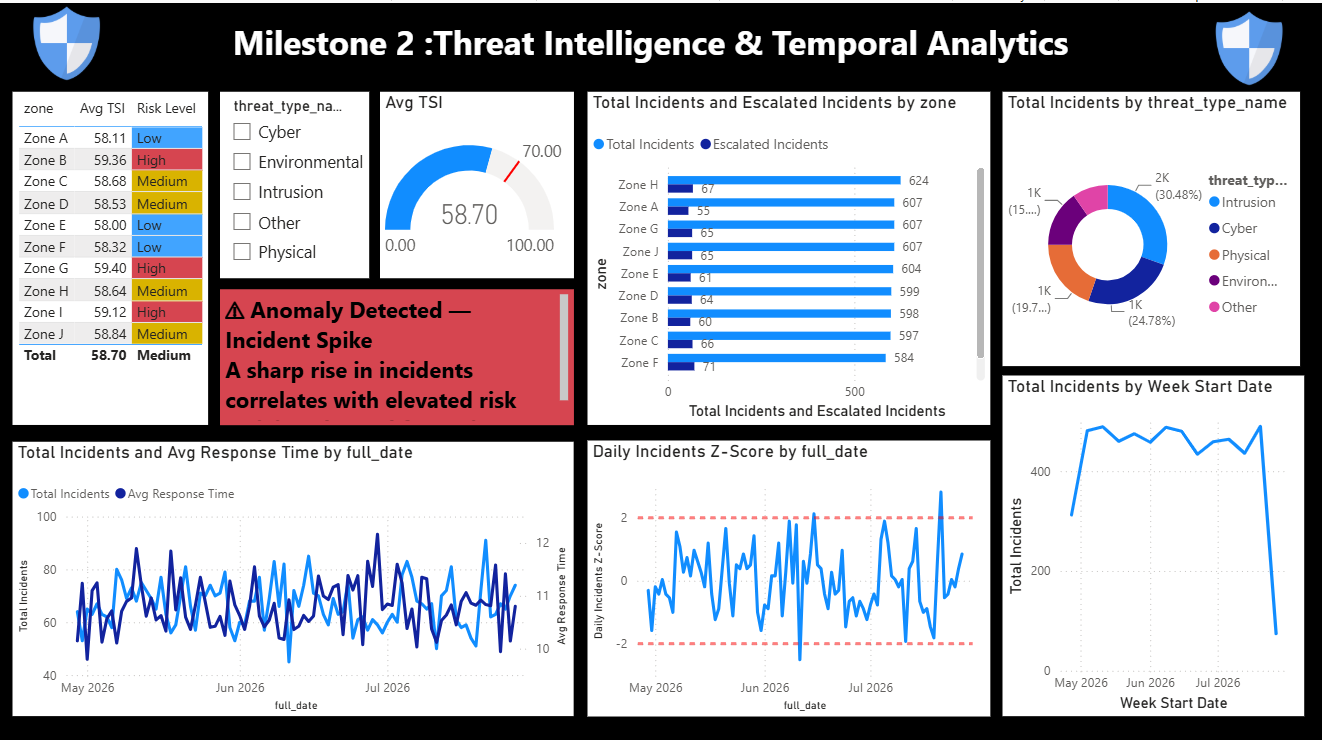

What the dashboard file says about the page in this screenshot:
{"tool":"powerbi","page":{"name":"Page 2","canvas":[1280,720],"ordinal":1},"visuals":[{"type":"gauge","fields":{"Y":["Fact_Incident.Avg TSI"]},"box":[366.2,86.2,187.5,180],"z":0},{"type":"textbox","box":[22.9,10.9,1210.1,66.4],"z":1000},{"type":"lineChart","fields":{"Category":["Dim_Time.full_date"],"Y":["Fact_Incident.Total Incidents"],"Y2":["Fact_Incident.Avg Response Time"]},"box":[12.5,423.8,541.2,265],"z":2000},{"type":"donutChart","fields":{"Category":["Dim_ThreatType.threat_type_name"],"Y":["Fact_Incident.Total Incidents"]},"box":[967.5,86.2,287.5,265],"z":3000},{"type":"textbox","box":[212.5,276.2,341.2,131.2],"z":4000},{"type":"slicer","fields":{"Values":["Dim_ThreatType.threat_type_name"]},"box":[212.5,86.2,143.8,180],"z":5000},{"type":"clusteredBarChart","fields":{"Category":["Dim_Geo.zone"],"Y":["Fact_Incident.Total Incidents","Fact_Incident.Escalated Incidents"]},"box":[567.5,86.2,388.8,321.2],"z":7000},{"type":"image","box":[12.5,0,105,77.5],"z":8000},{"type":"lineChart","fields":{"Category":["Dim_Time.Week Start Date"],"Y":["Fact_Incident.Total Incidents"]},"box":[967.5,360,291.2,328.8],"z":9000},{"type":"lineChart","fields":{"Category":["Dim_Time.full_date"],"Y":["Fact_Incident.Daily Incidents Z-Score"]},"box":[567.5,422.5,388.8,266.2],"z":10000},{"type":"image","box":[1153.8,5,105,77.5],"z":11000},{"type":"tableEx","fields":{"Values":["Dim_Geo.zone","Fact_Incident.Avg TSI","Fact_Incident.Risk Level"]},"box":[12.5,86.2,188.8,321.2],"z":12000}]}

Visuals, with their boxes in screenshot pixels (x1, y1, x2, y2), scaled from the page's 1280x720 canvas onto the 1322x740 screenshot:
gauge - Fact_Incident.Avg TSI: bbox=(378, 89, 572, 274)
textbox: bbox=(24, 11, 1273, 79)
lineChart - Dim_Time.full_date x Fact_Incident.Total Incidents: bbox=(13, 436, 572, 708)
donutChart - Dim_ThreatType.threat_type_name x Fact_Incident.Total Incidents: bbox=(999, 89, 1296, 361)
textbox: bbox=(219, 284, 572, 419)
slicer - Dim_ThreatType.threat_type_name: bbox=(219, 89, 368, 274)
clusteredBarChart - Dim_Geo.zone x Fact_Incident.Total Incidents: bbox=(586, 89, 988, 419)
image: bbox=(13, 0, 121, 80)
lineChart - Dim_Time.Week Start Date x Fact_Incident.Total Incidents: bbox=(999, 370, 1300, 708)
lineChart - Dim_Time.full_date x Fact_Incident.Daily Incidents Z-Score: bbox=(586, 434, 988, 708)
image: bbox=(1192, 5, 1300, 85)
tableEx - Dim_Geo.zone x Fact_Incident.Avg TSI: bbox=(13, 89, 208, 419)
